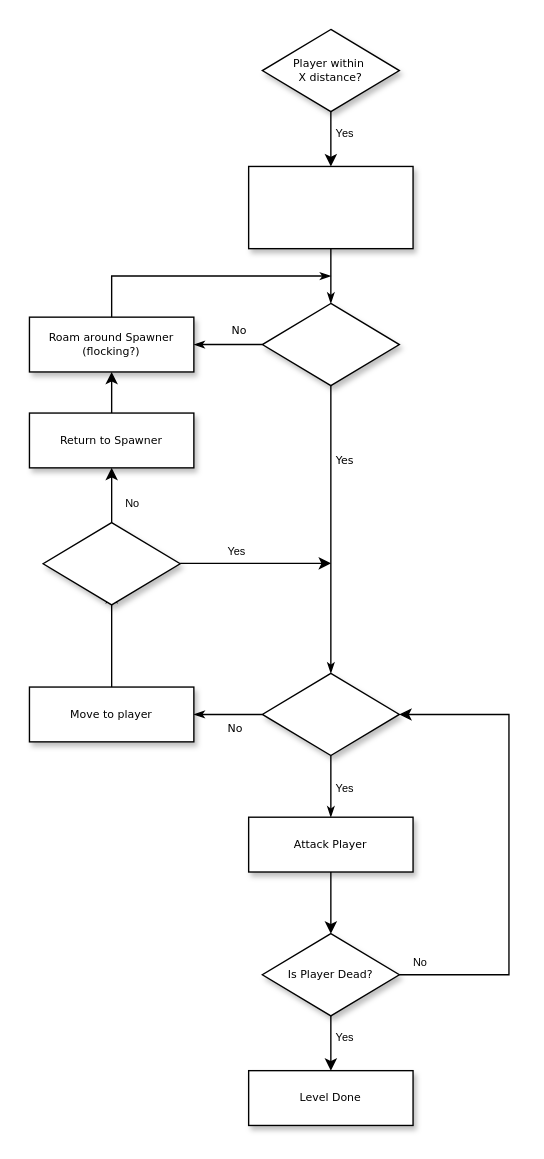
Image size: 544x1159. Some labels were removed from this diagram. Each missing label, with the centre of its shape:
Has Player kept in view for <3s?: (112,565)
Is Player in view?: (332,346)
Is Player within reach?: (332,716)
Spawn Enemies at Spawner: (331,209)
